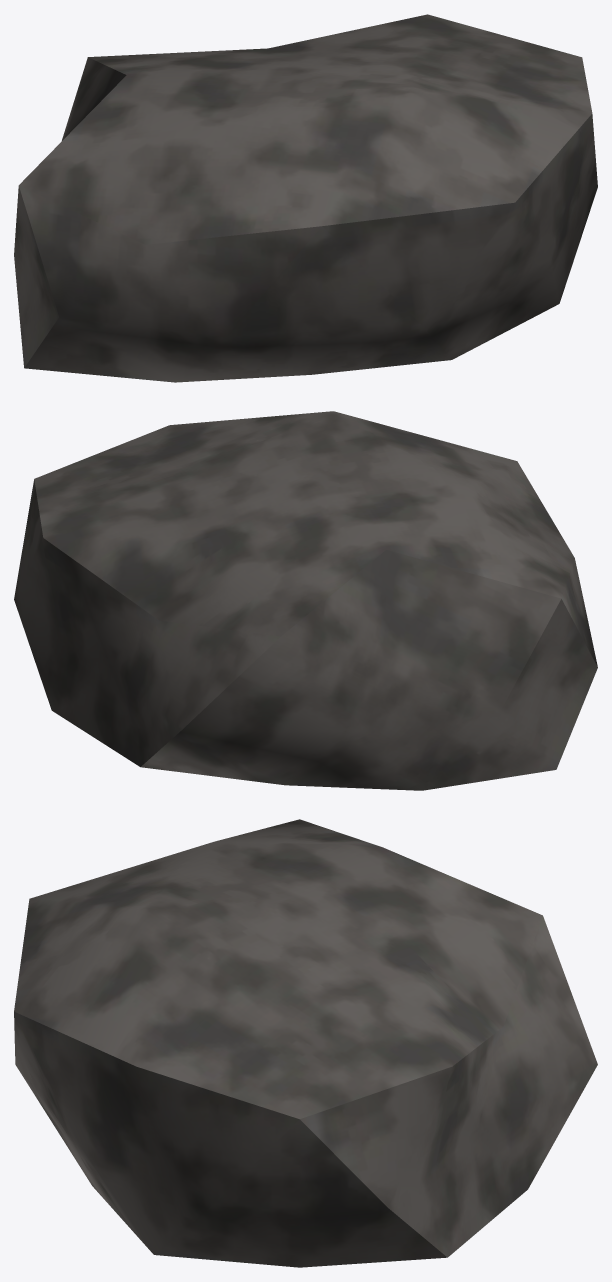
The model's file is rock_boulder_large.glb.
The picture shows the model from 3 angles, top to bottom: view 1: azimuth 30°, elevation 25°; view 2: azimuth 150°, elevation 25°; view 3: azimuth 270°, elevation 25°; orthographic projection. The views are drawn at different scales.
Parts seen in each view (by area): view 1: RockBoulderLarge; view 2: RockBoulderLarge; view 3: RockBoulderLarge.
Part boxes in pixels (x1=…): RockBoulderLarge: x1=14, y1=14, x2=597, y2=382; RockBoulderLarge: x1=14, y1=411, x2=597, y2=790; RockBoulderLarge: x1=14, y1=819, x2=597, y2=1267.
Size of the model in its own units: 3.3 by 1.42 by 2.81.
Materials: 1 (1 with a texture image).
